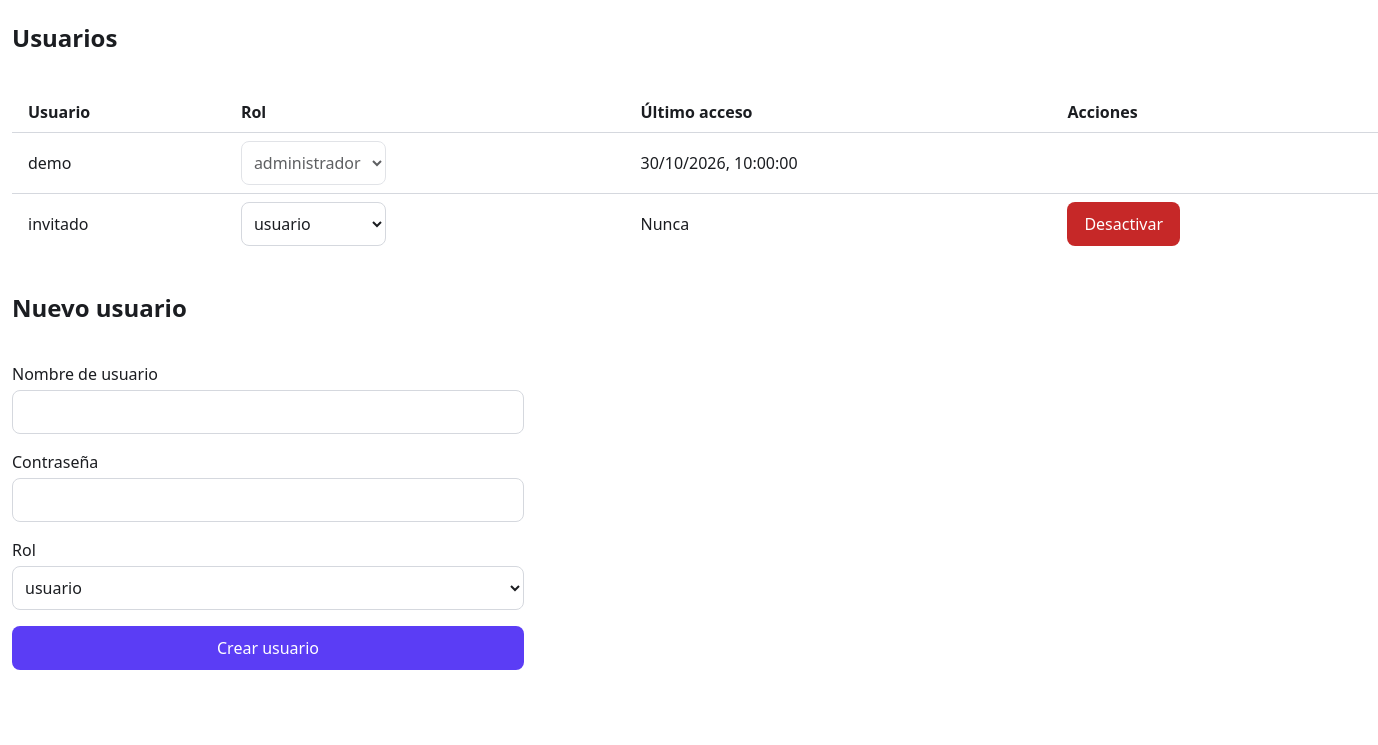
UsersView › da de alta un usuario y vacía el formulario
Type "ana" into the field labelled "Nombre de usuario". click: {"x": 268, "y": 412}
box: [12,390,524,434]
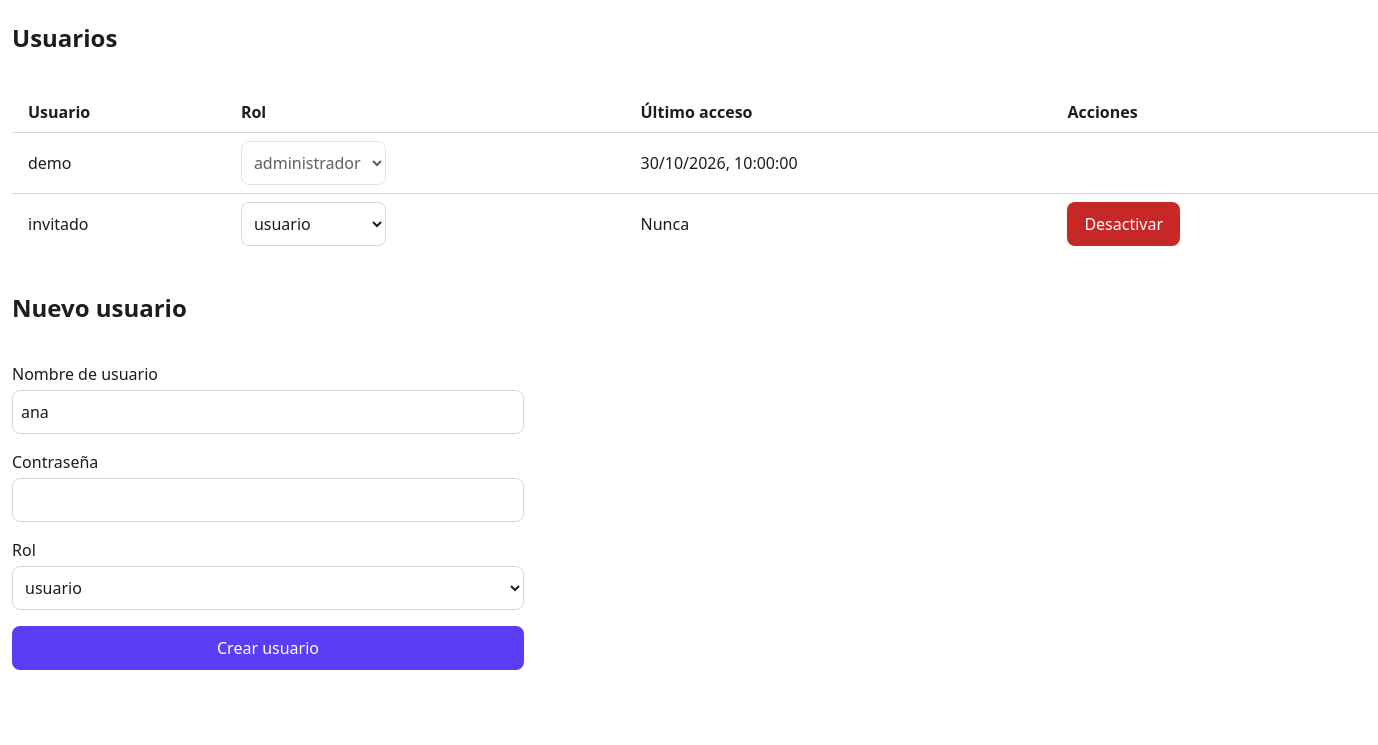
Type "Clave-segura-1" into the password field labelled "Contraseña". click: {"x": 268, "y": 500}
box: [12,478,524,522]
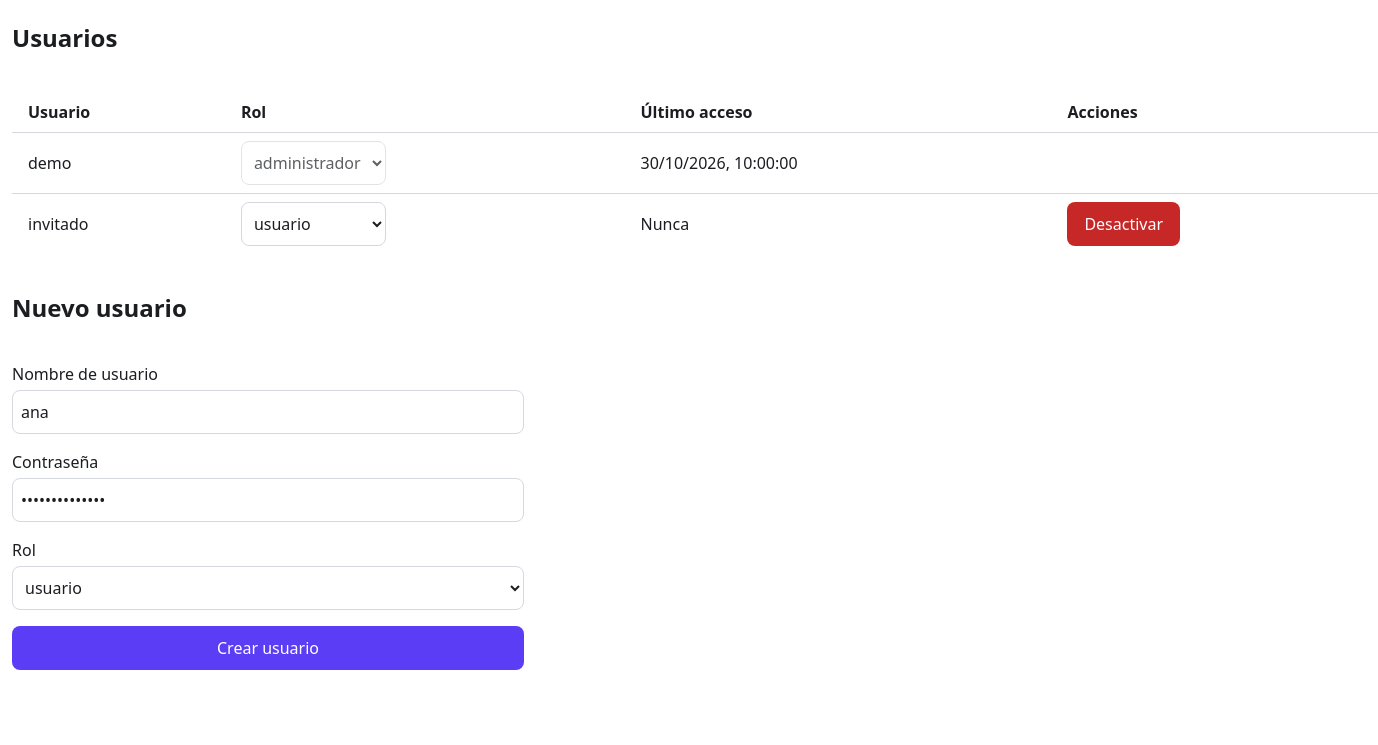
Select "administrador" in the dropdown with id "users-new-role". click: {"x": 268, "y": 588}
box: [12,566,524,610]
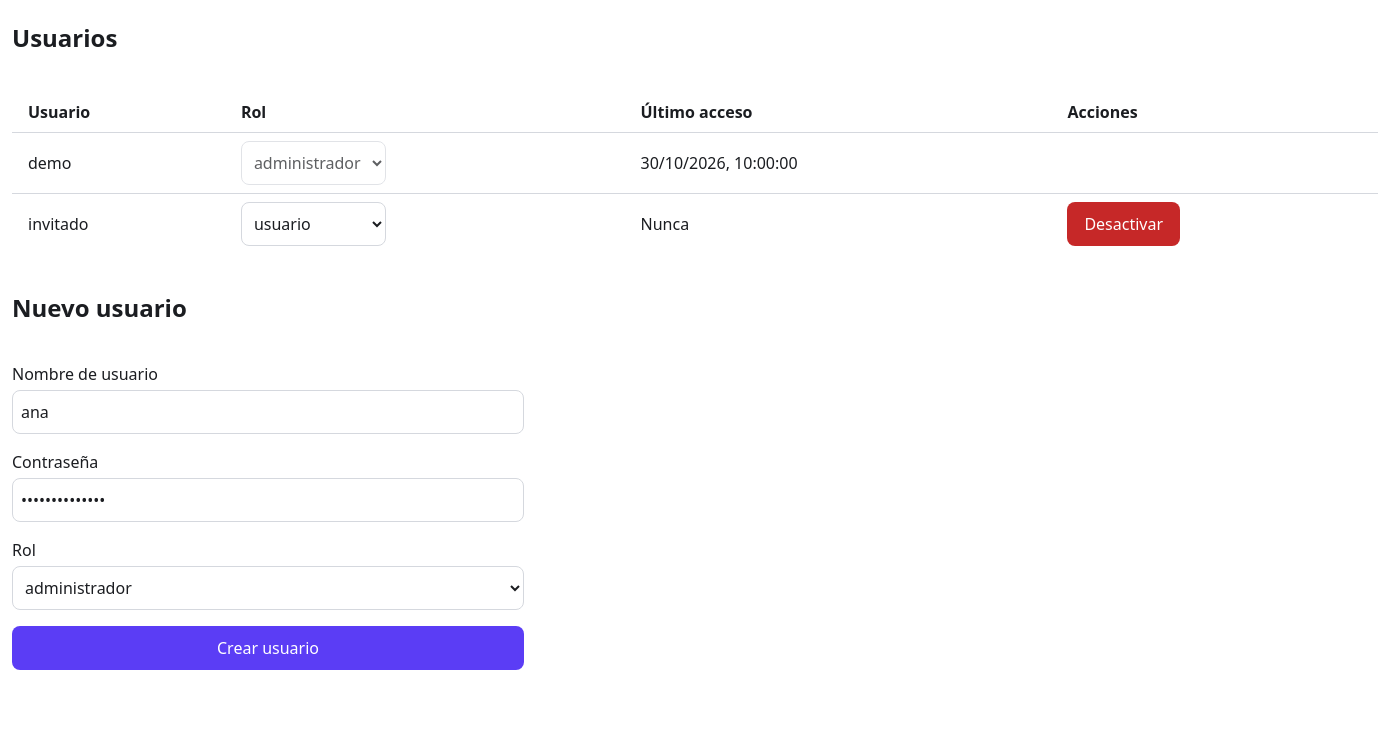
Submit the form, box [12,270,524,670]
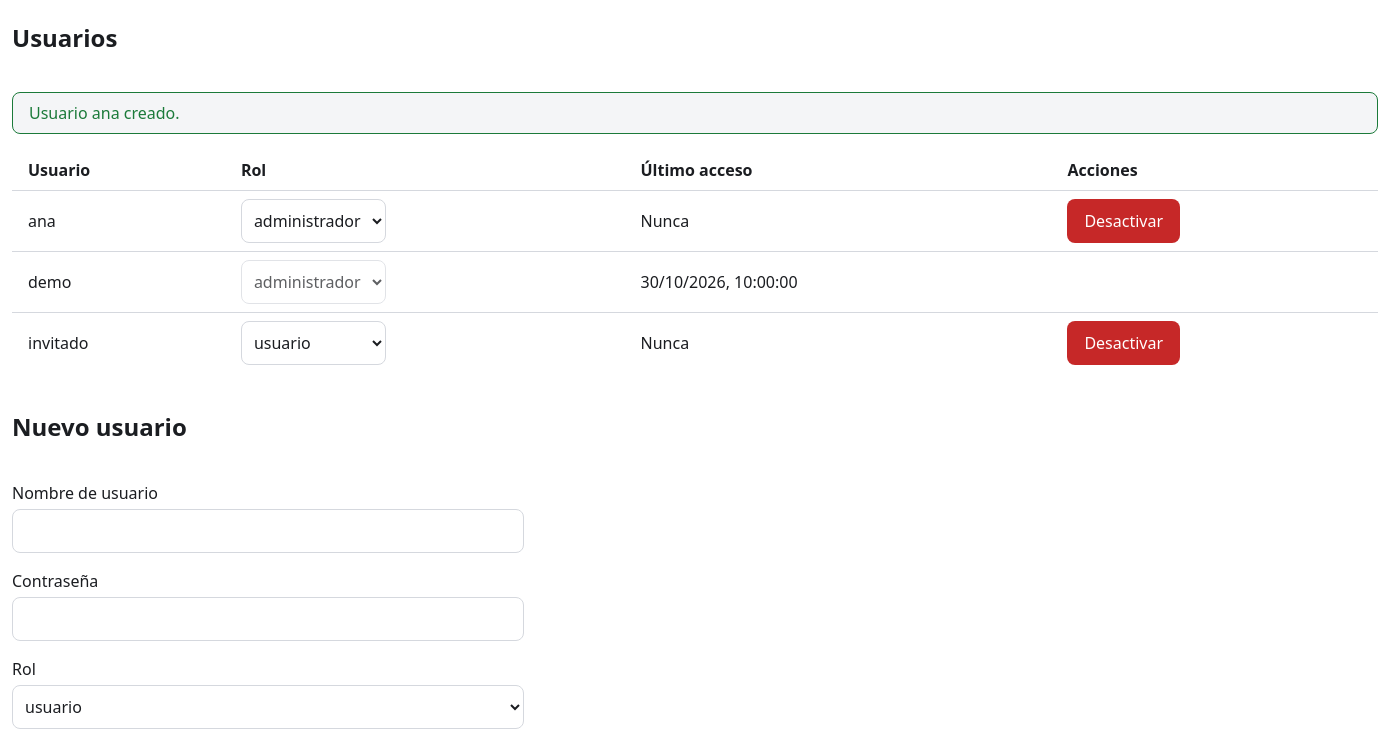
Check: the message "Usuario ana creado." is shown, box [12,92,1377,134]
